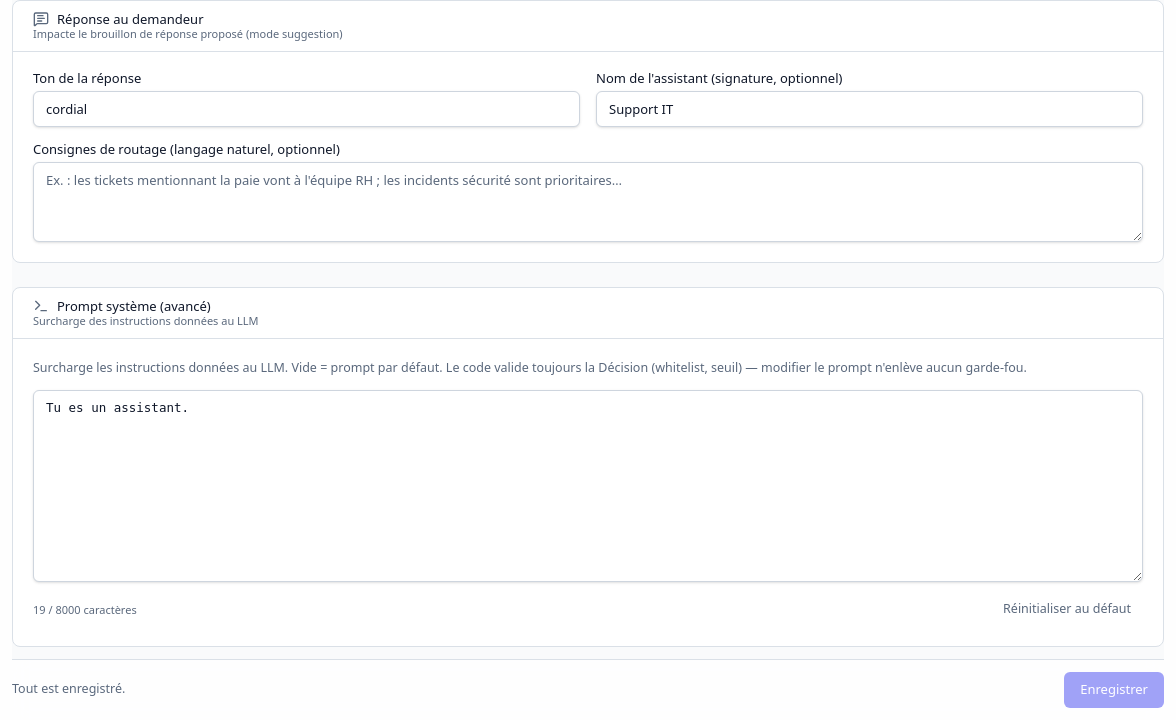
Scenario: Prompt & réponse › compte les caractères et signale l'emploi du prompt par défaut
Expected: the field showing "cordial" is shown, 33,91 -> 580,127
Expected: the text "19 / 8000 caractères" is shown, 33,602 -> 137,618
What coordinates should you click on to do the following:
click the button "Réinitialiser au défaut"
I would click on:
 (1067, 610)
Its box is 991,594 -> 1143,626.
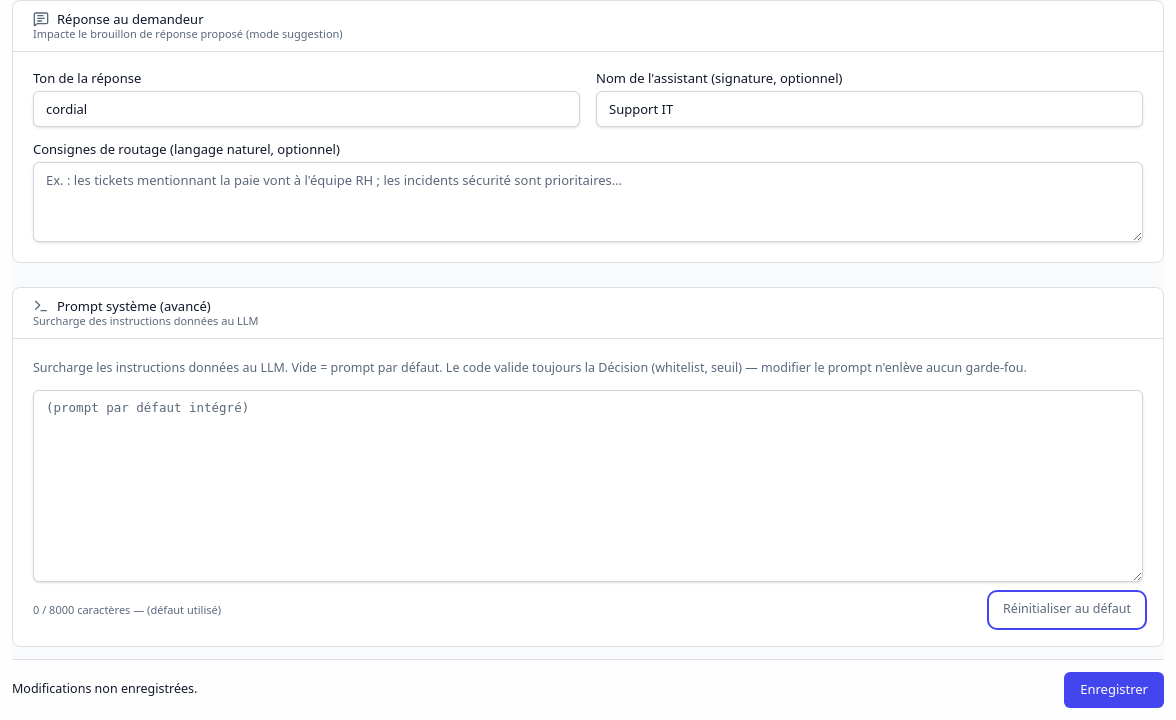
Now the text "0 / 8000 caractères — (défaut utilisé)" is shown, box 33,602 -> 221,618
